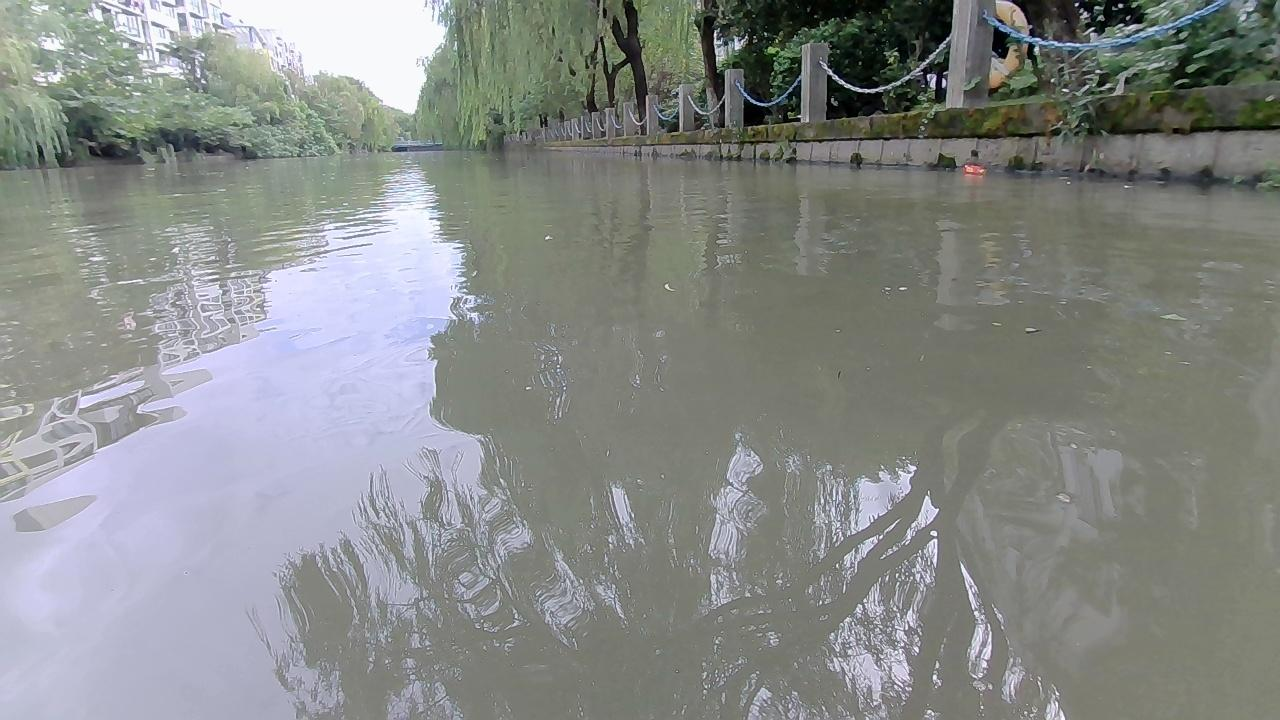bottle: (960, 159, 990, 177)
